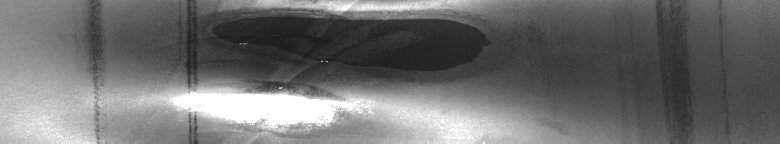ke: (160, 4, 491, 136)
